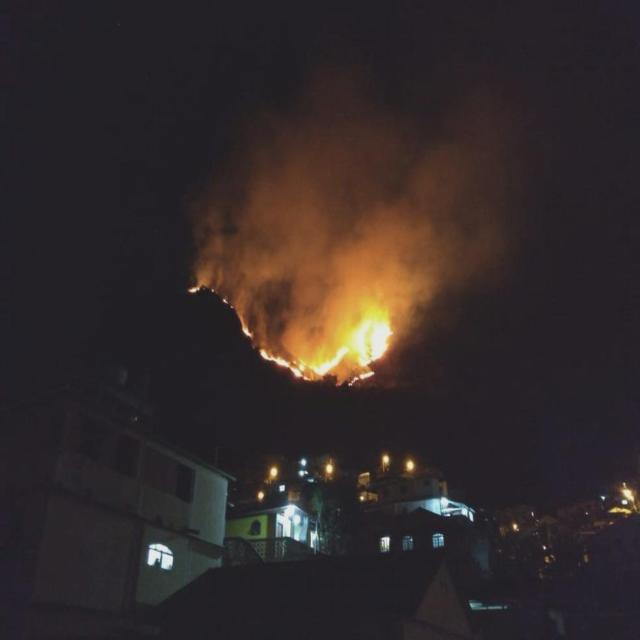Fire: (260, 347, 312, 382), (353, 316, 392, 360), (312, 347, 346, 371), (346, 372, 374, 386), (242, 324, 252, 338), (187, 286, 199, 296)
